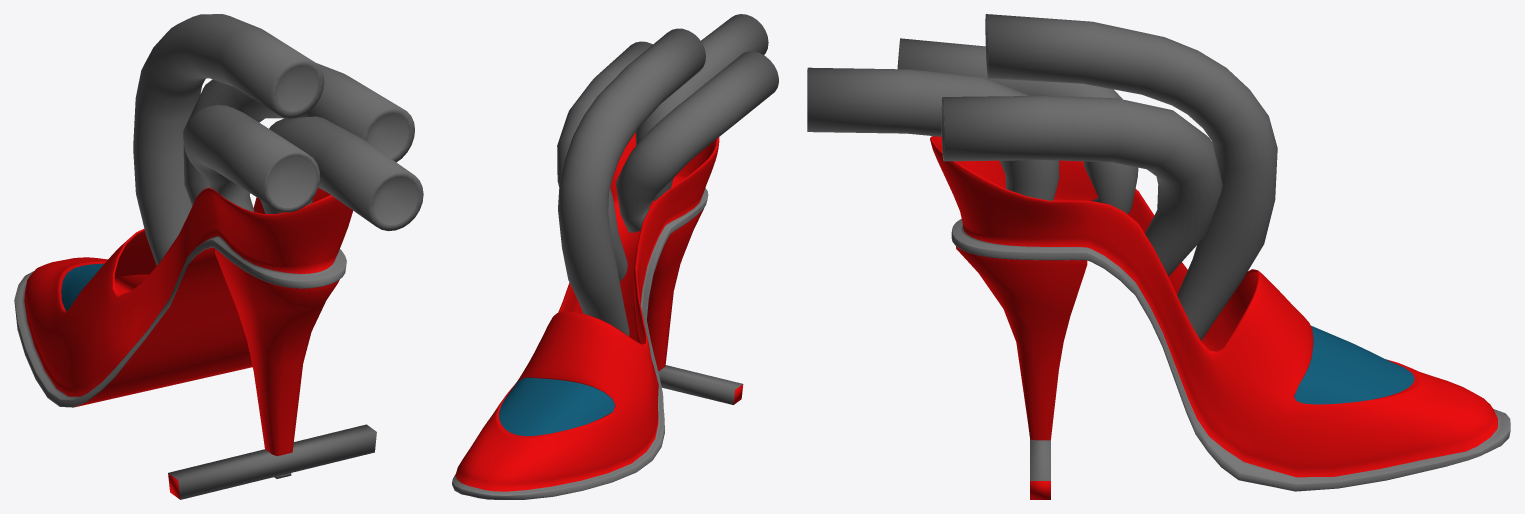
The picture shows the model from 3 angles, left to right: view 1: azimuth 30°, elevation 25°; view 2: azimuth 150°, elevation 25°; view 3: azimuth 270°, elevation 25°; orthographic projection. The views are drawn at different scales.
Parts seen in each view (by area): view 1: ShoeCar; view 2: ShoeCar; view 3: ShoeCar.
Boxes of the visible parts, bbox=[...] form: ShoeCar: bbox=[14, 14, 423, 499]; ShoeCar: bbox=[452, 14, 778, 499]; ShoeCar: bbox=[807, 14, 1510, 499].
Size of the model in its own units: 91.83 by 191 by 278.
